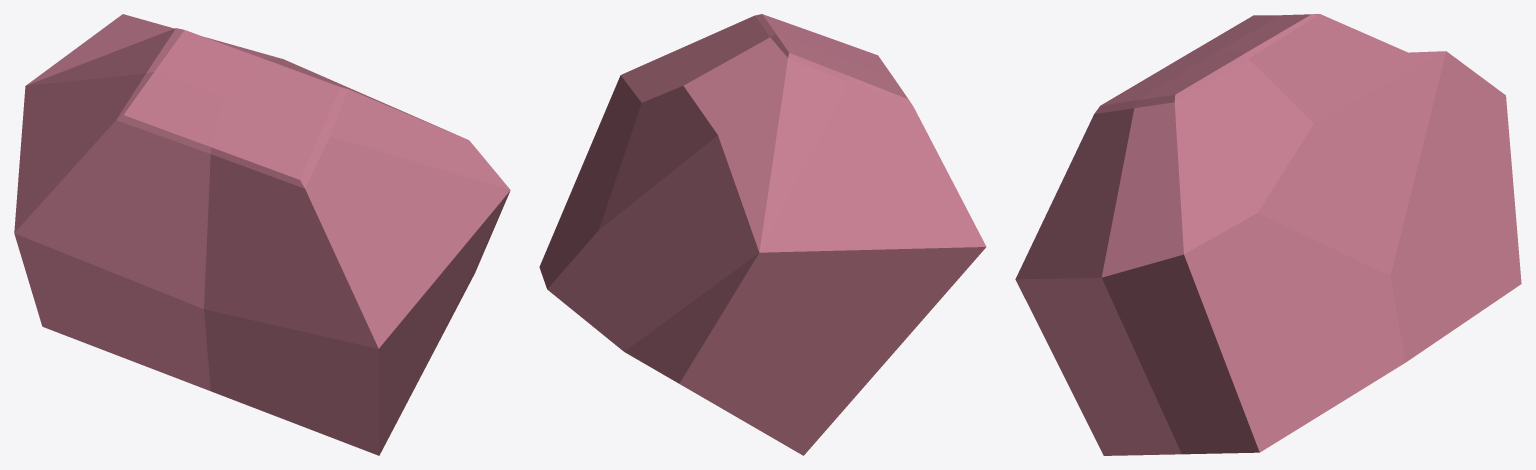
File: Small Rock 2.fbx
The picture shows the model from 3 angles, left to right: view 1: azimuth 30°, elevation 25°; view 2: azimuth 150°, elevation 25°; view 3: azimuth 270°, elevation 25°; orthographic projection. The views are drawn at different scales.
Visible parts, largest first — view 1: Small Rock 2; view 2: Small Rock 2; view 3: Small Rock 2.
Boxes of the visible parts, box(x1,y1,x2,y2) form: Small Rock 2: box(14, 14, 510, 455); Small Rock 2: box(539, 14, 986, 455); Small Rock 2: box(1015, 14, 1521, 455).
Bounding box in the file's own units: 38.3 × 30.85 × 36.07.
